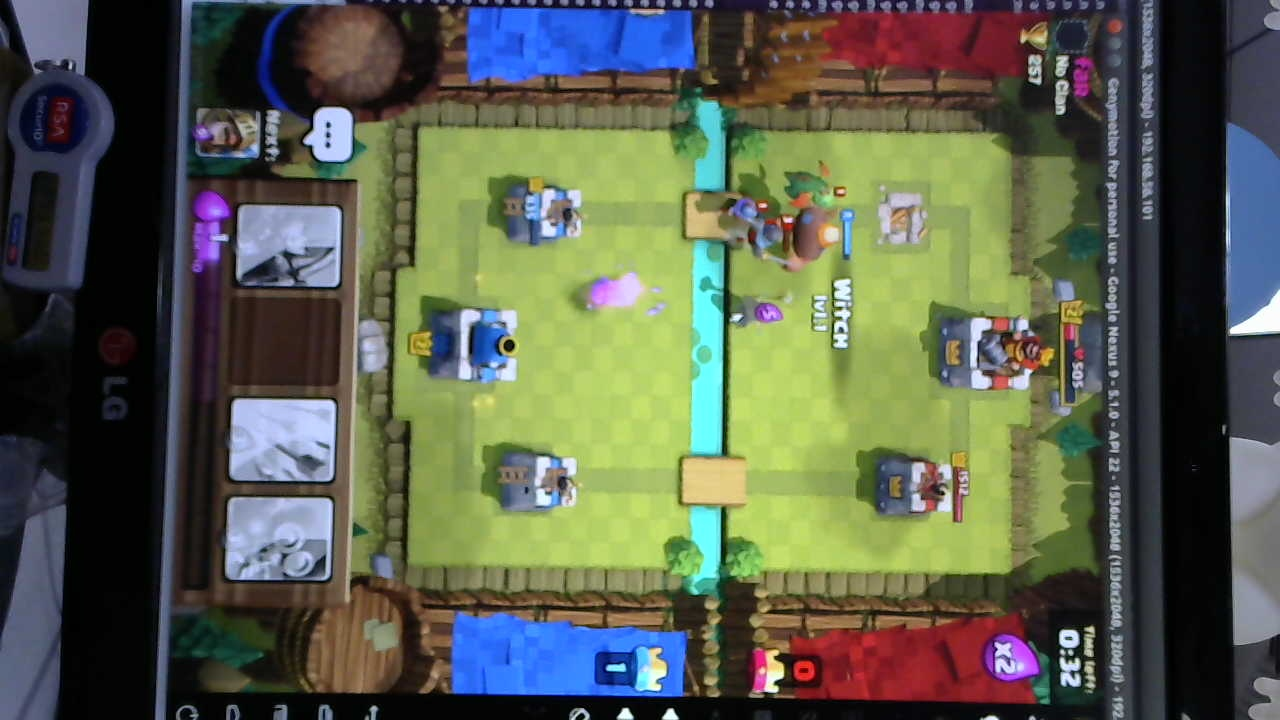arena: (497, 446, 584, 516), (503, 181, 587, 246)
darena: (873, 184, 930, 253)
dragon: (782, 171, 847, 214)
earena: (871, 454, 958, 519)
eking: (936, 310, 1053, 396)
giant: (788, 196, 840, 274)
king: (432, 305, 521, 384)
knight: (750, 217, 792, 270)
musketeer: (716, 195, 765, 224)
